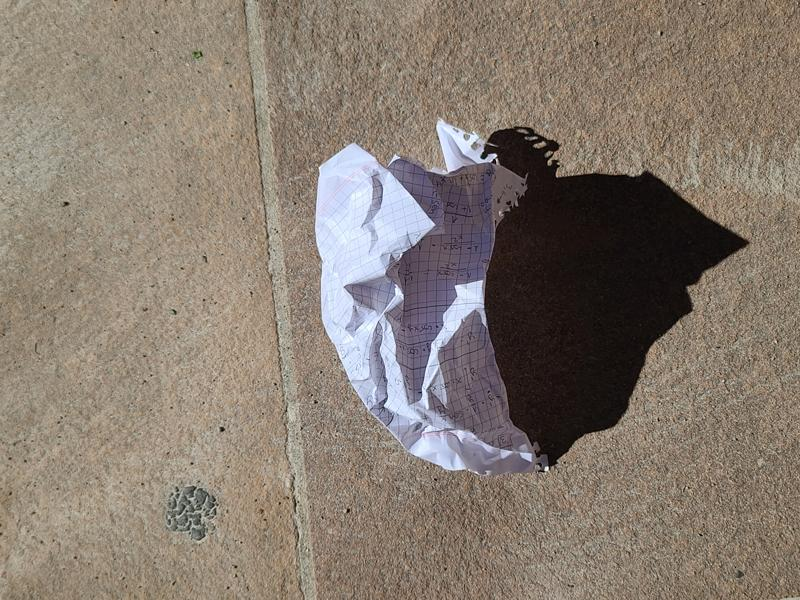papel: (315, 129, 541, 477)
